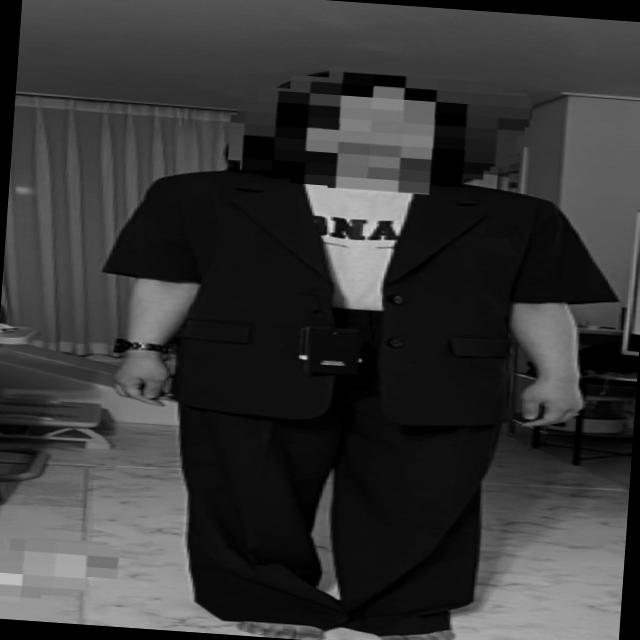blazer: (92, 160, 625, 442)
slacks: (153, 299, 515, 640)
